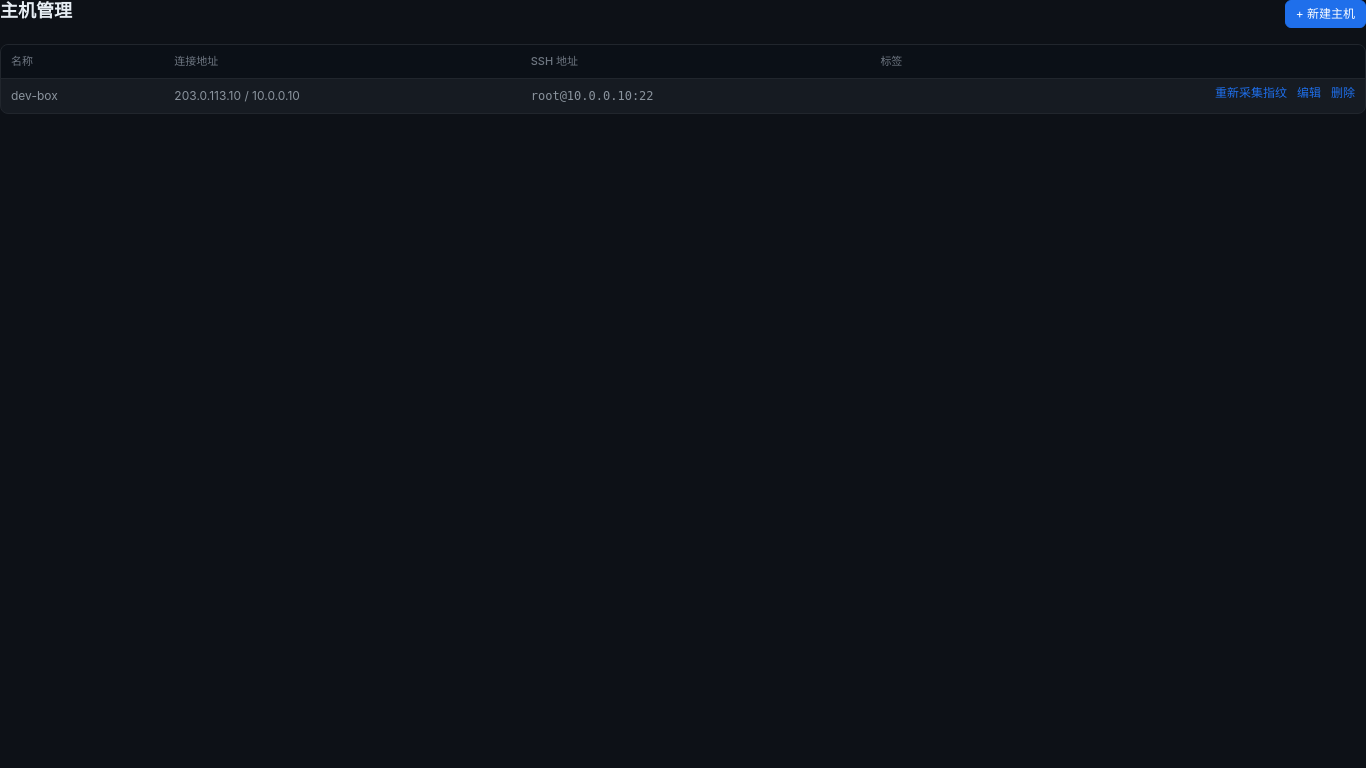
Scenario: HostManagerTab › shows the project-home delete guard modal on a 409 project_home response and never asks to force-delete via confirm
Click the button with test id "host-delete" at (1343, 92), box [1331, 86, 1355, 98]
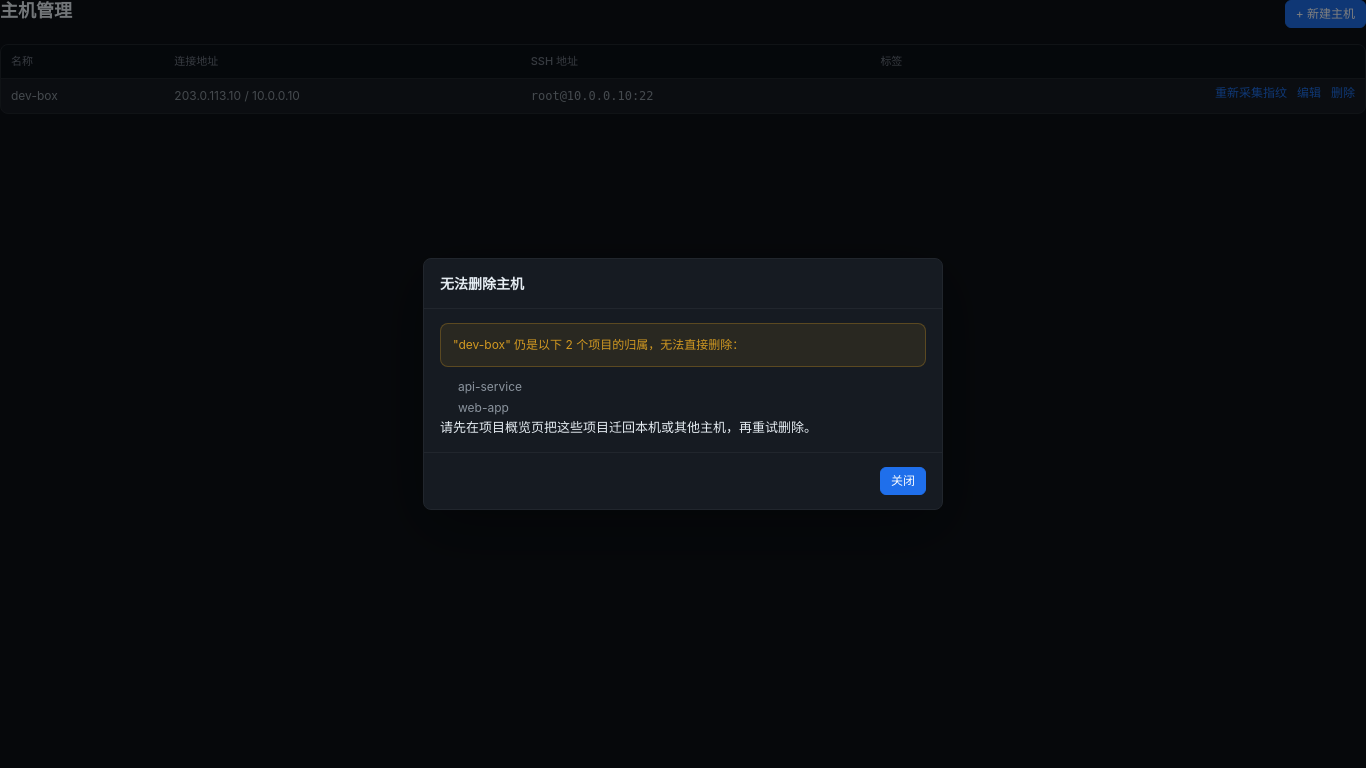
expect the element with test id "host-delete-guard" is shown: met
expect the list with test id "host-delete-guard-projects" shows "api-service": met, box [458, 379, 522, 394]
expect the list with test id "host-delete-guard-projects" shows "web-app": met, box [458, 400, 509, 415]
